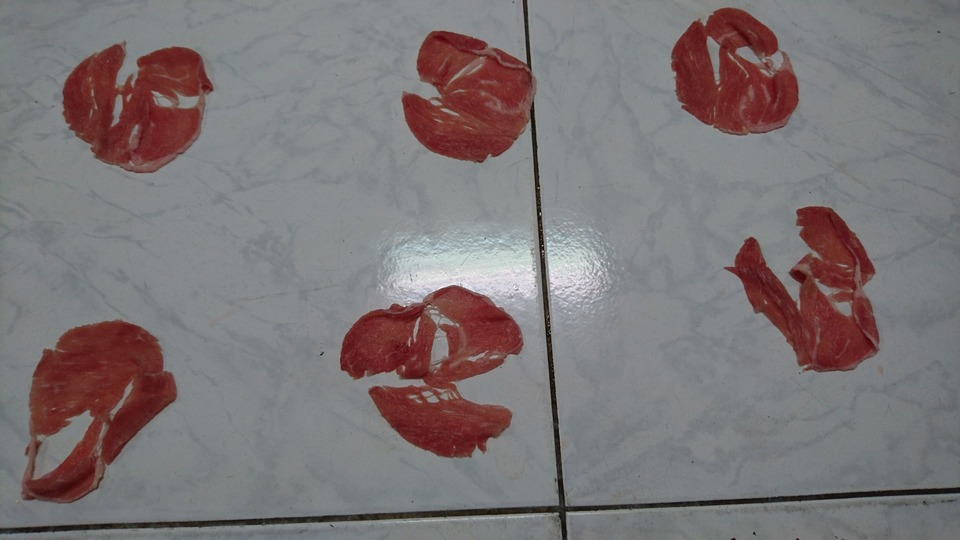restructured meat: (336, 282, 529, 458), (714, 183, 887, 378), (23, 304, 182, 514), (54, 34, 214, 193), (402, 17, 549, 166), (666, 1, 797, 136)
